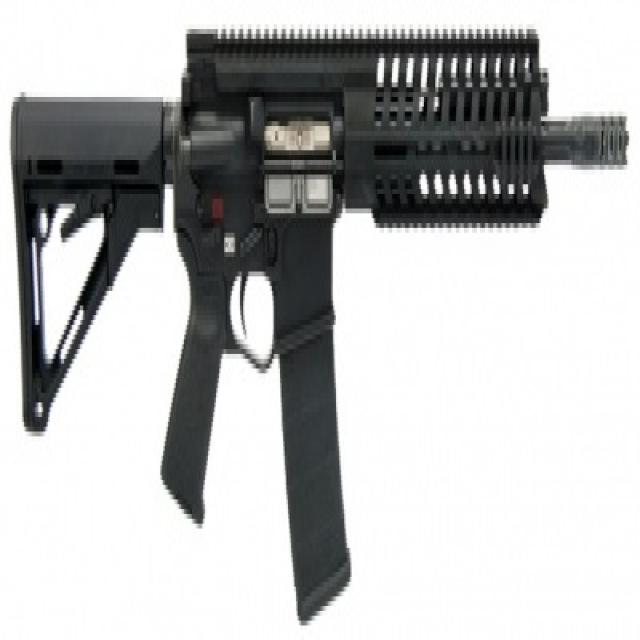rifle: (1, 1, 637, 640)
